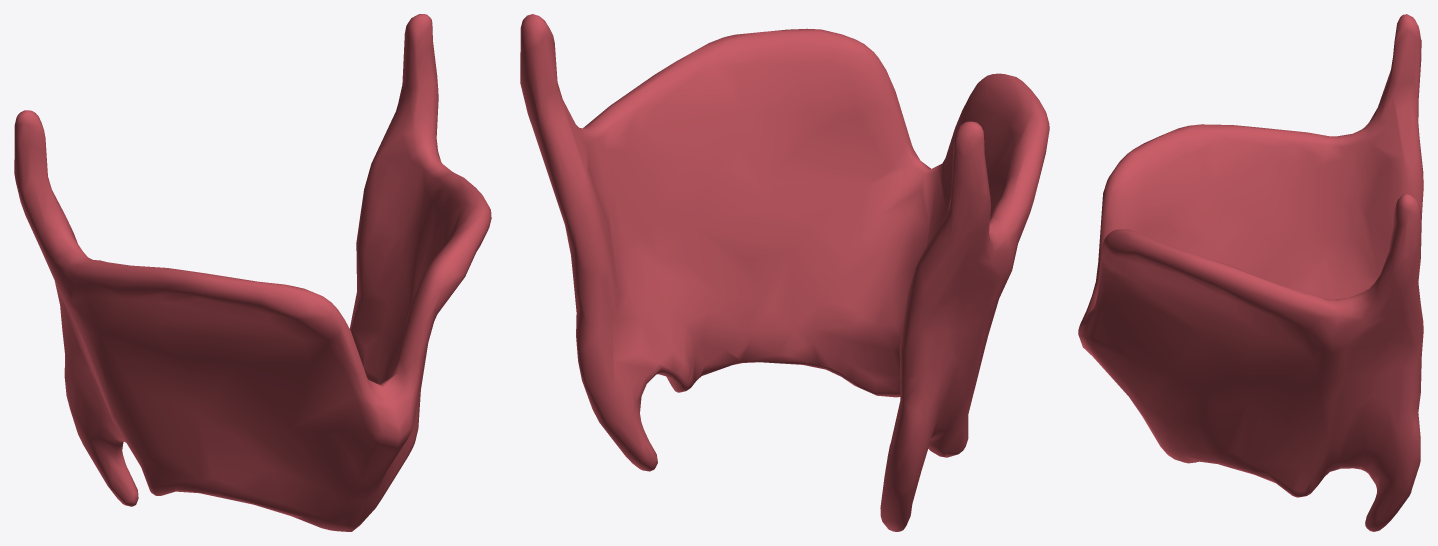
The model's file is esqueleto-thyroid-cartilage.glb.
The picture shows the model from 3 angles, left to right: view 1: azimuth 30°, elevation 25°; view 2: azimuth 150°, elevation 25°; view 3: azimuth 270°, elevation 25°; orthographic projection. The views are drawn at different scales.
Parts seen in each view (by area): view 1: Thyroid cartilage; view 2: Thyroid cartilage; view 3: Thyroid cartilage.
Part boxes in pixels (x1,y1,x2,y2): Thyroid cartilage: (14,14,491,531); Thyroid cartilage: (520,14,1049,531); Thyroid cartilage: (1078,14,1423,531).
Bounding box in the file's own units: 0.0412 × 0.0378 × 0.0315.
